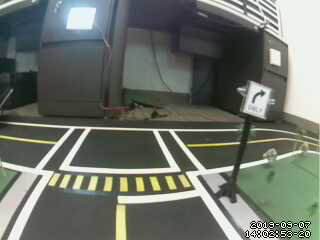Right_only_sign: (247, 79, 271, 118)
